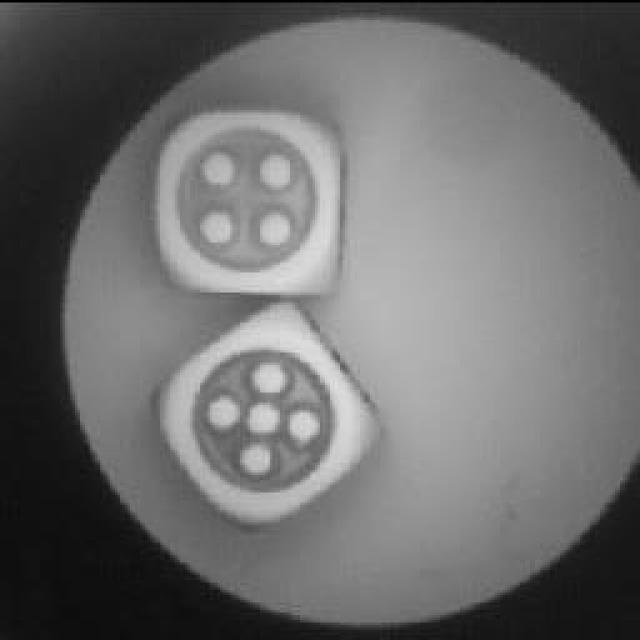dice_4: (150, 92, 348, 288)
dice_5: (158, 305, 382, 527)
